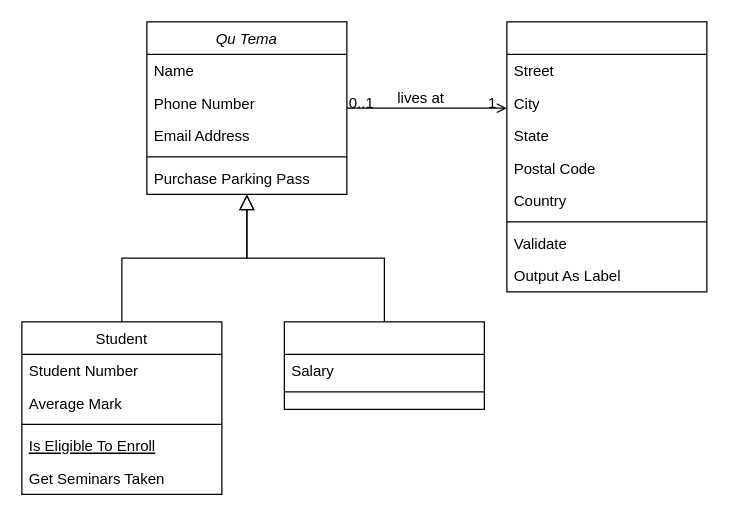
The diagram is 729 pixels wide and 520 high, and some of its shapes have lost their labels. Here are the shapes that lost their labels. From the top down, the box of each, then its label:
(506, 21, 707, 292): Address
(283, 321, 484, 409): Professor
